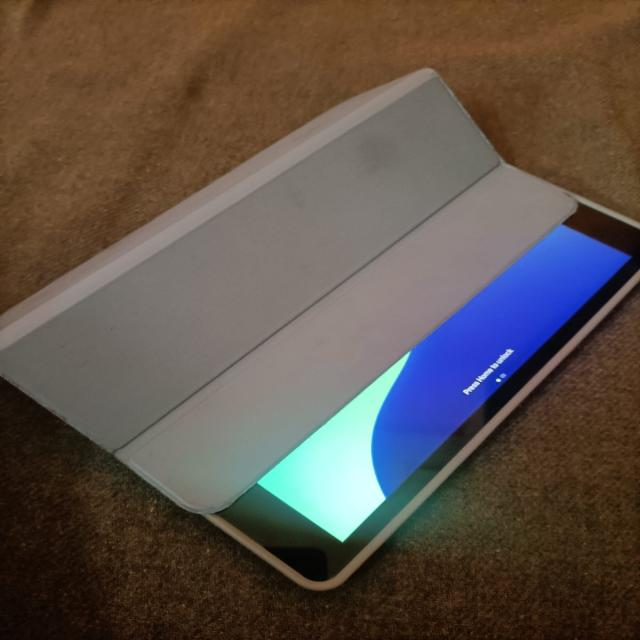tablet: (0, 23, 640, 602)
